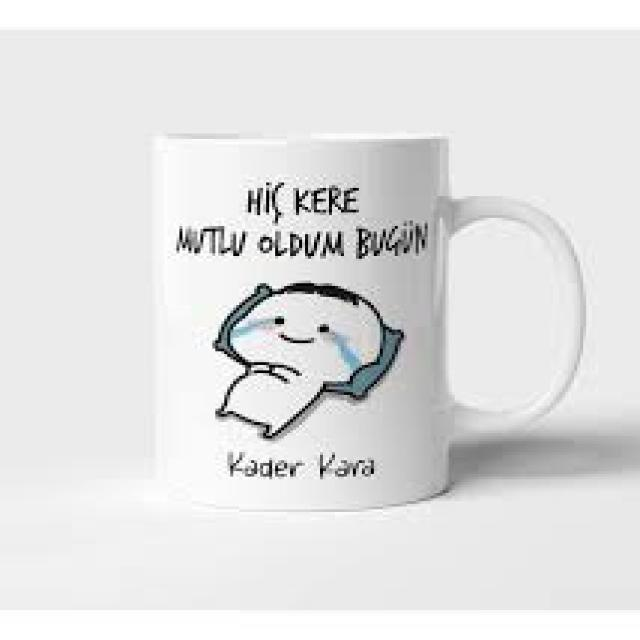taza: (154, 132, 586, 514)
